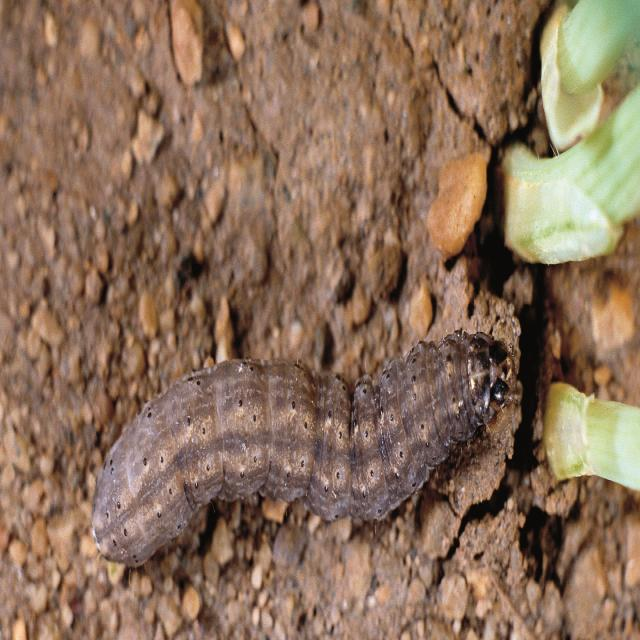Cutworm: (90, 331, 514, 559)
